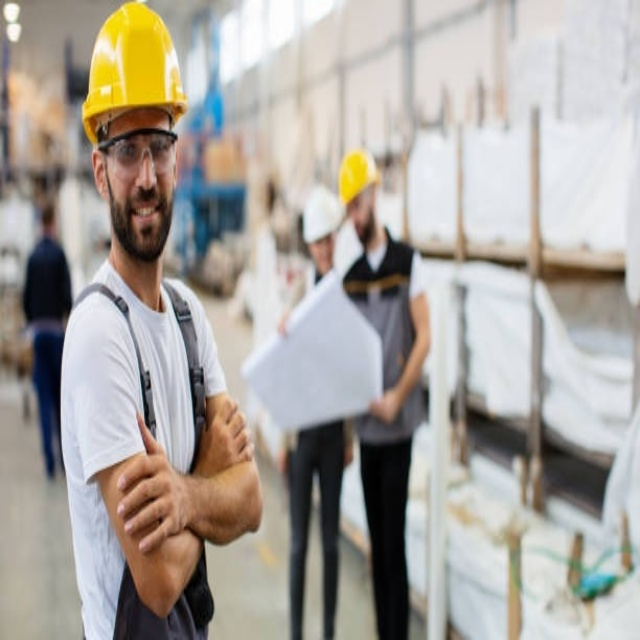Gafas: (99, 130, 178, 175)
Sin_guantes: (118, 411, 187, 554), (193, 394, 257, 476)
Sin_mascara: (127, 195, 165, 238)
